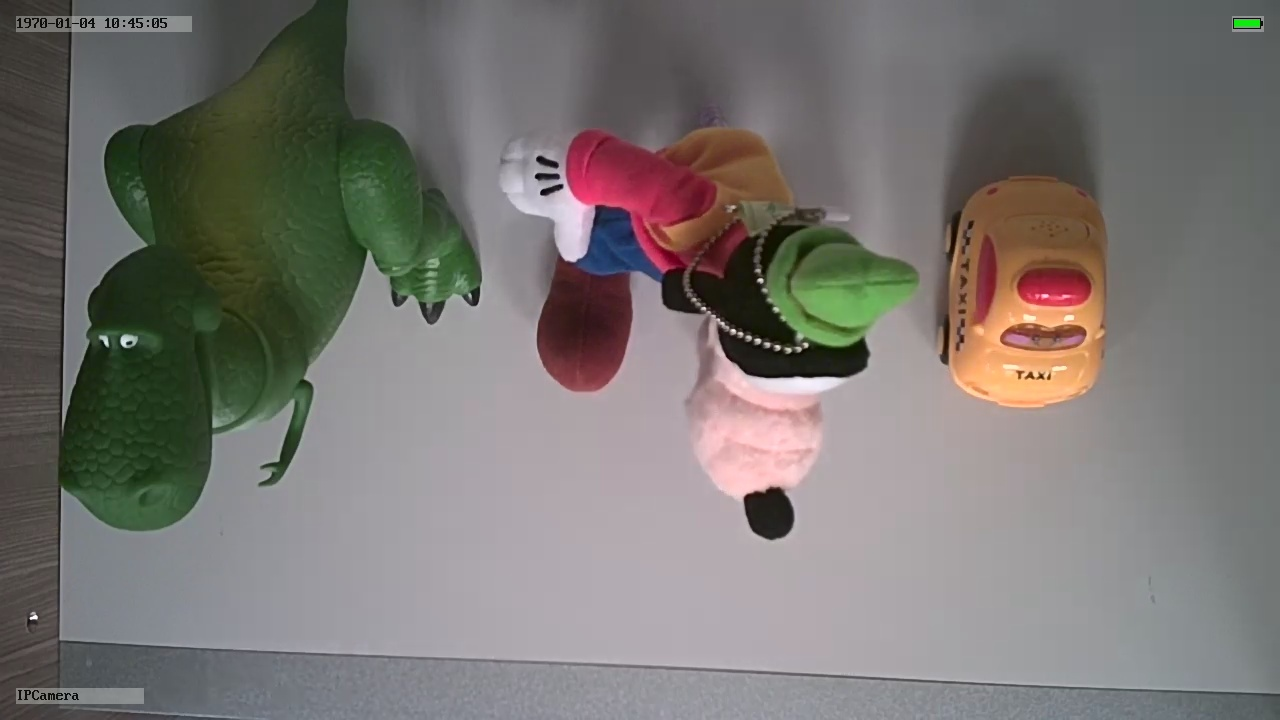car: (935, 168, 1114, 415)
goofy: (493, 122, 924, 544)
rex: (63, 43, 479, 532)
